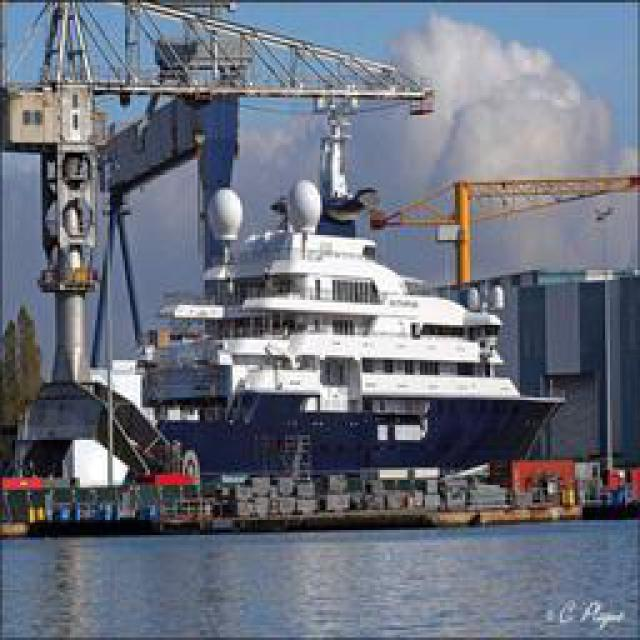Ship: (121, 186, 579, 496)
